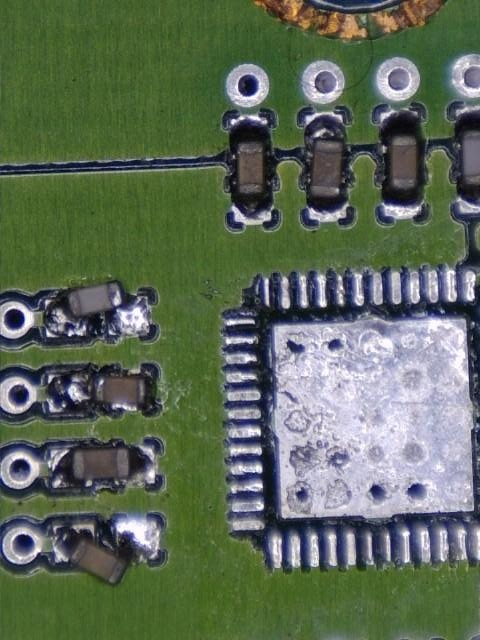pcb_defect: (52, 519, 160, 585), (45, 281, 150, 338), (46, 371, 152, 415)
